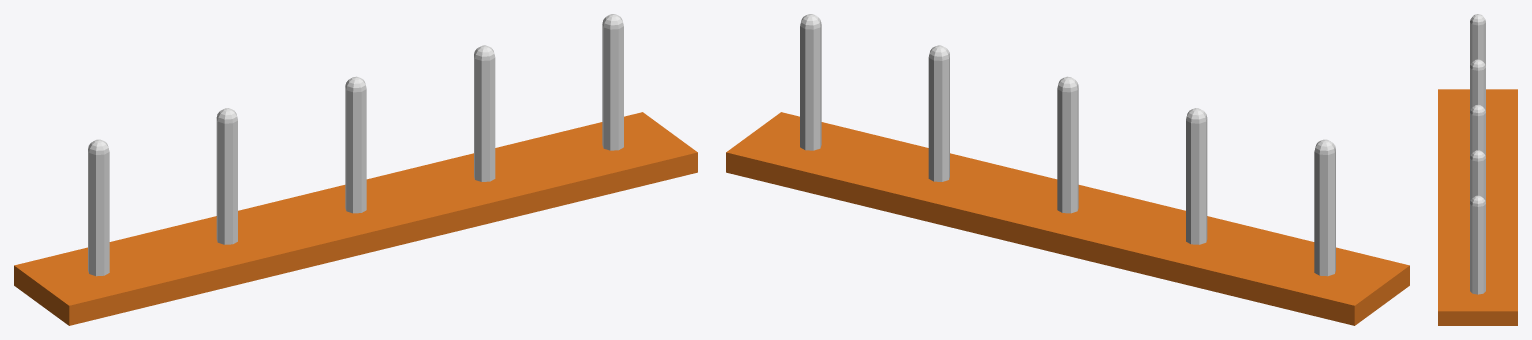
The model's file is peg_board.dae.
3 renders of one model, left to right at view 1: azimuth 30°, elevation 25°; view 2: azimuth 150°, elevation 25°; view 3: azimuth 270°, elevation 25°, orthographic. The views are drawn at different scales.
Parts seen in each view (by area): view 1: Cube, Cylinder.007, Cylinder.009, Cylinder.008, Cylinder.005, Cylinder.006; view 2: Cube, Cylinder.007, Cylinder.009, Cylinder.008, Cylinder.005, Cylinder.006; view 3: Cube, Cylinder.007, Cylinder.006, Cylinder.008, Cylinder.009, Cylinder.005.
Boxes of the visible parts, x1=… form: Cube: x1=14, y1=112, x2=697, y2=325; Cylinder.007: x1=602, y1=14, x2=623, y2=150; Cylinder.009: x1=216, y1=108, x2=237, y2=244; Cylinder.008: x1=345, y1=76, x2=366, y2=213; Cylinder.005: x1=88, y1=139, x2=109, y2=276; Cylinder.006: x1=474, y1=45, x2=495, y2=181; Cube: x1=726, y1=112, x2=1409, y2=325; Cylinder.007: x1=800, y1=14, x2=821, y2=150; Cylinder.009: x1=1186, y1=108, x2=1207, y2=244; Cylinder.008: x1=1057, y1=76, x2=1078, y2=213; Cylinder.005: x1=1314, y1=139, x2=1335, y2=276; Cylinder.006: x1=928, y1=45, x2=949, y2=181; Cube: x1=1438, y1=89, x2=1517, y2=325; Cylinder.007: x1=1470, y1=195, x2=1485, y2=294; Cylinder.006: x1=1470, y1=150, x2=1485, y2=202; Cylinder.008: x1=1470, y1=105, x2=1485, y2=156; Cylinder.009: x1=1470, y1=59, x2=1485, y2=111; Cylinder.005: x1=1470, y1=14, x2=1485, y2=65.
Size of the model in its own units: 0.4889 by 0.0742 by 0.1125.
